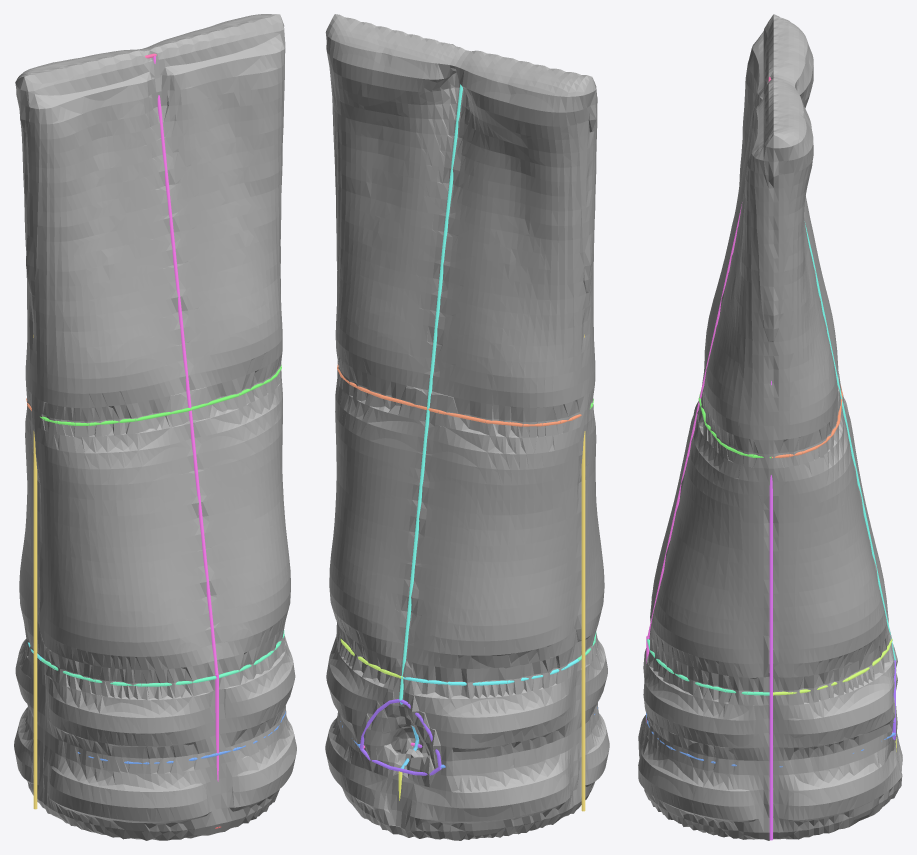
Rendered from t2f_toothpaste.gltf.
3 views of the same model, side by side, from view 1: azimuth 30°, elevation 25°; view 2: azimuth 150°, elevation 25°; view 3: azimuth 270°, elevation 25° (orthographic). The views are drawn at different scales.
Bounding box in the file's own units: 0.3426 × 0.931 × 0.3067.
